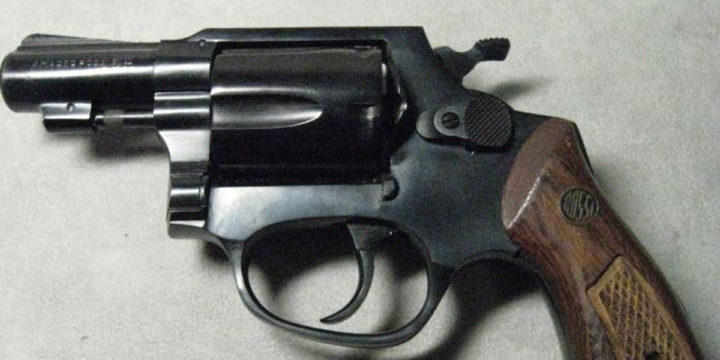Revolver: (2, 16, 713, 357)
